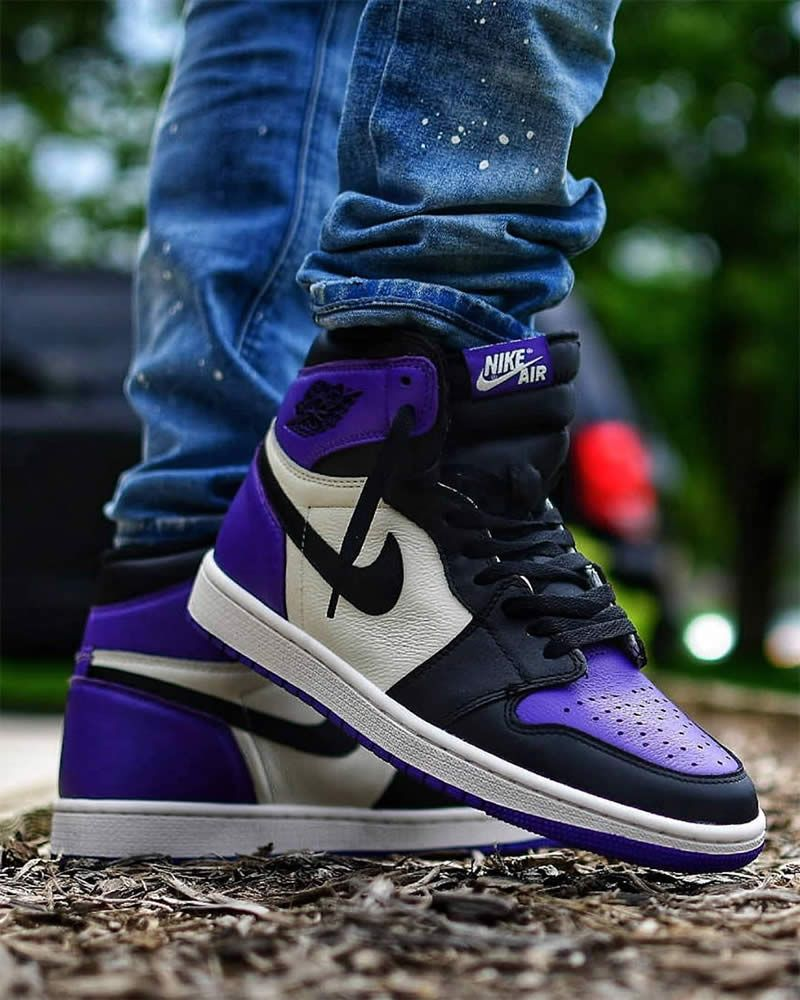Jordan 1: (180, 314, 776, 878)
